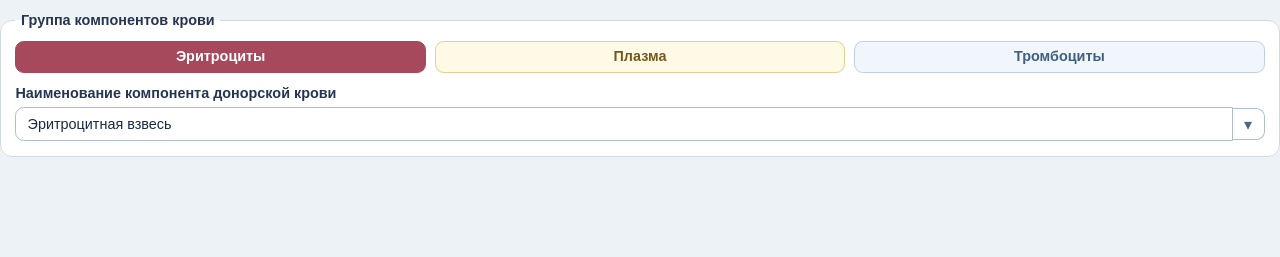
Test: offers platelet names without leaking the previous group presets
Click the button "Тромбоциты": (1059, 57) [854,41,1265,73]
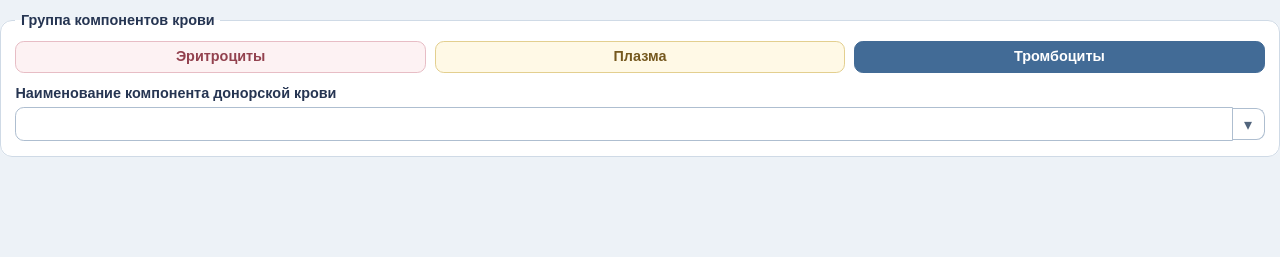
Click the button named "Показать сохранённые варианты: Наименование компонента донорской крови": (1249, 124) [1233,108,1265,140]
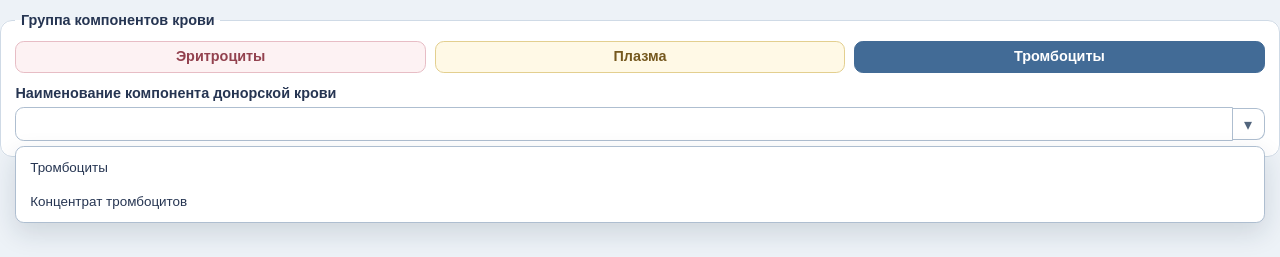
Check: the button "Эритроцитная взвесь" is not shown
Click the button "Концентрат тромбоцитов": (109, 201) [21,185,1259,217]
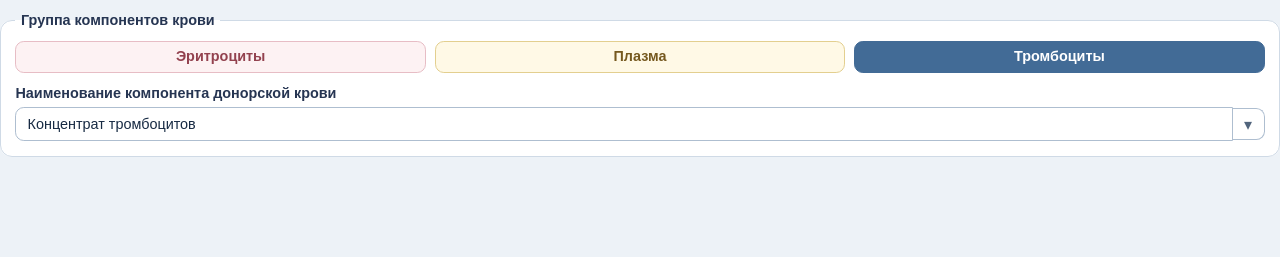
Check: the field named "Наименование компонента донорской крови" holds "Концентрат тромбоцитов", box [15,107,1233,141]
